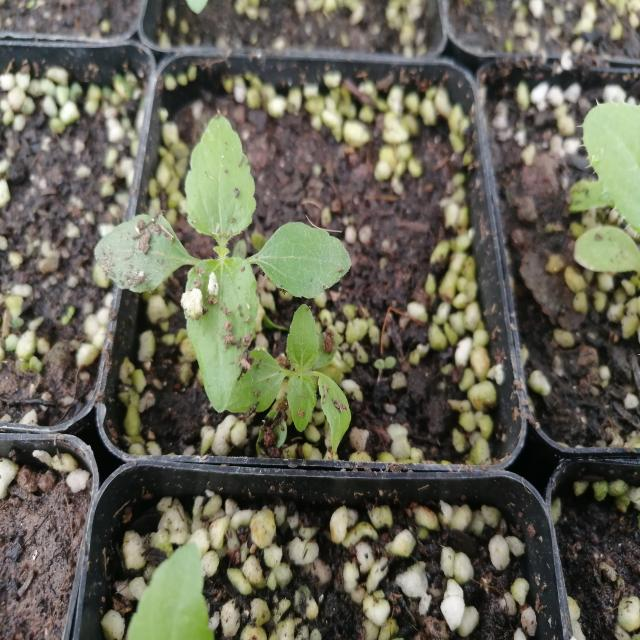billygoat_weed: (127, 107, 329, 416)
